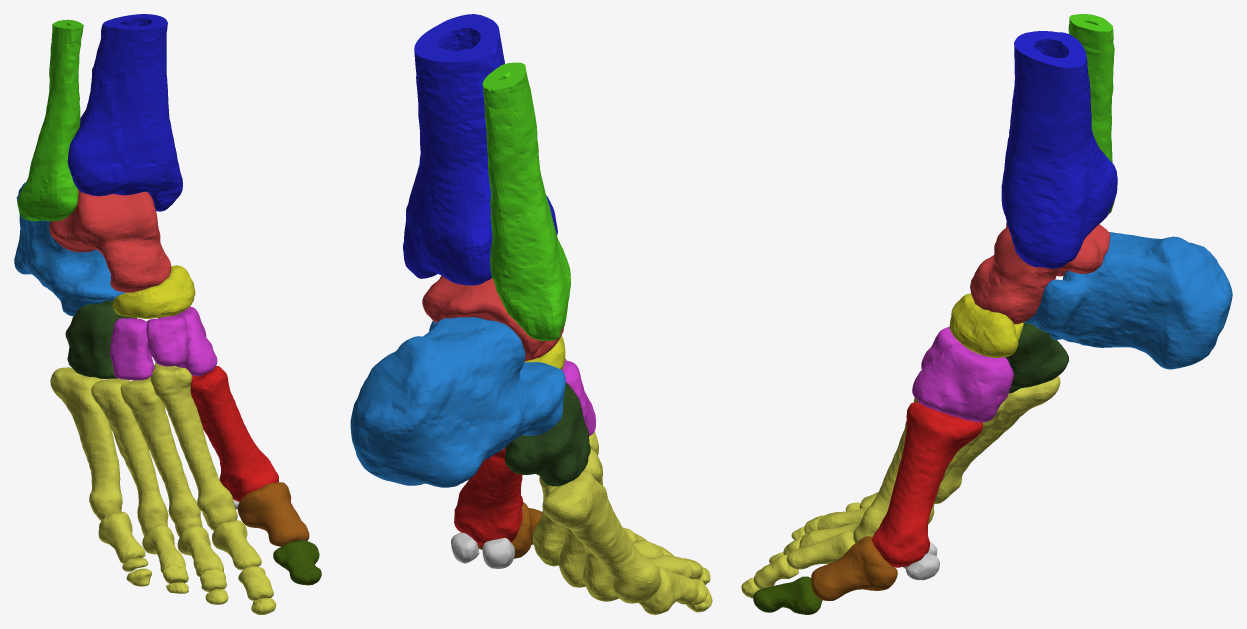
File: foot-ankle-bones.glb
The picture shows the model from 3 angles, left to right: view 1: azimuth 30°, elevation 25°; view 2: azimuth 150°, elevation 25°; view 3: azimuth 270°, elevation 25°; orthographic projection. The views are drawn at different scales.
Visible parts, largest first — view 1: polySurface17, polySurface1, polySurface6, polySurface3, polySurface33, polySurface31, polySurface37, polySurface36, polySurface35, polySurface22, polySurface21; view 2: polySurface37, polySurface1, polySurface3, polySurface17, polySurface36, polySurface31, polySurface6, polySurface7, polySurface33, polySurface35, polySurface22; view 3: polySurface1, polySurface37, polySurface17, polySurface31, polySurface33, polySurface6, polySurface3, polySurface35, polySurface22, polySurface36, polySurface21, polySurface7.
Boxes of the visible parts, x1,y1,x2,y2 form: polySurface17: (50, 362, 276, 614); polySurface1: (67, 14, 182, 211); polySurface6: (49, 189, 171, 292); polySurface3: (17, 19, 83, 221); polySurface33: (110, 306, 217, 380); polySurface31: (190, 366, 278, 501); polySurface37: (14, 182, 125, 316); polySurface36: (65, 300, 136, 378); polySurface35: (237, 482, 309, 546); polySurface22: (112, 265, 195, 318); polySurface21: (273, 540, 321, 585); polySurface37: (350, 317, 565, 487); polySurface1: (403, 14, 557, 285); polySurface3: (482, 62, 570, 340); polySurface17: (532, 431, 712, 614); polySurface36: (504, 382, 590, 486); polySurface31: (454, 447, 523, 546); polySurface6: (422, 275, 563, 361); polySurface7: (451, 532, 515, 568); polySurface33: (562, 359, 595, 436); polySurface35: (477, 502, 542, 558); polySurface22: (524, 335, 565, 369); polySurface1: (1001, 31, 1117, 268); polySurface37: (1024, 232, 1232, 369); polySurface17: (741, 376, 1060, 598); polySurface31: (872, 402, 982, 567); polySurface33: (912, 326, 1013, 422); polySurface6: (970, 222, 1110, 324); polySurface3: (1068, 14, 1114, 214); polySurface35: (811, 536, 897, 600); polySurface22: (949, 293, 1023, 357); polySurface36: (1005, 322, 1068, 393); polySurface21: (753, 576, 822, 614); polySurface7: (903, 542, 939, 580).
Size of the model in its own units: 7.85 by 21.37 by 17.02.
